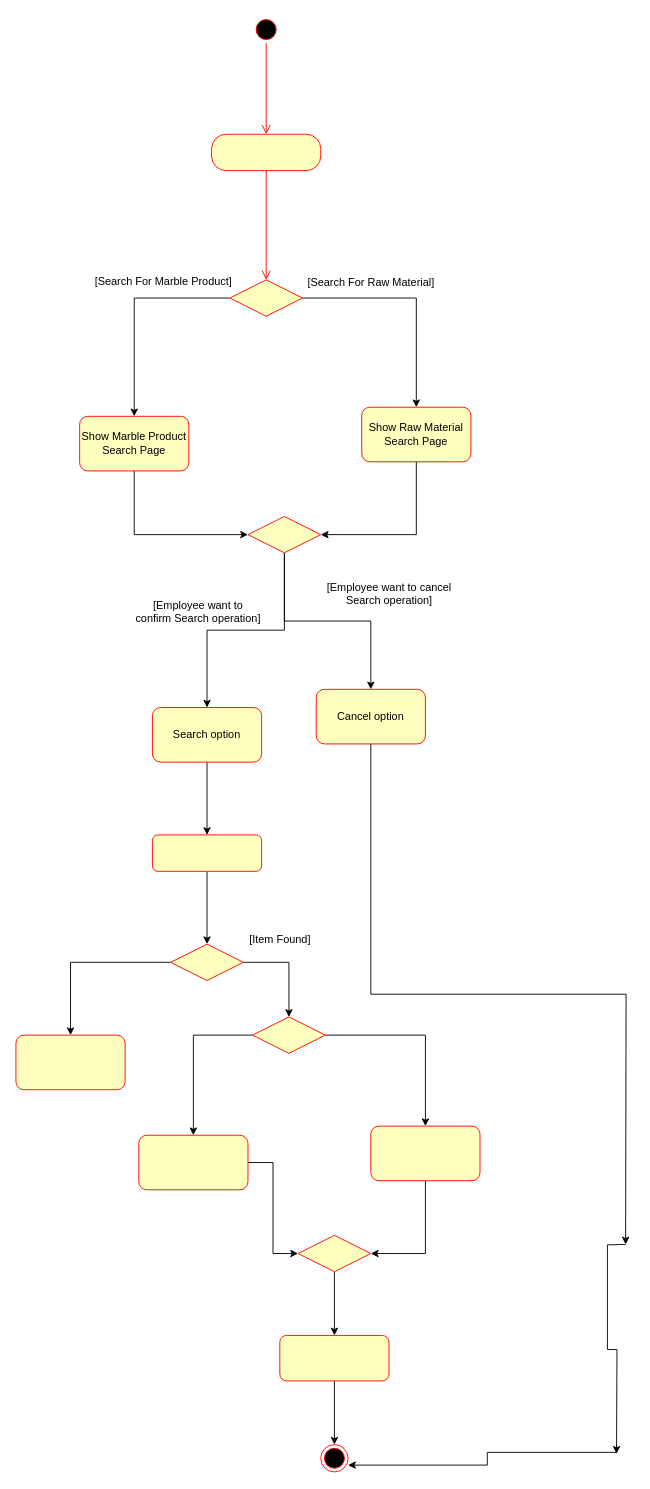
Image size: 650x1489. Some labels were removed from this diagram. The shapes that lost their labels are listed below. From the top down, each one's centre as x and y in pixels, then its label:
At (266,152): "Select Search Item Option".
At (207,852): "Find match Searched Item".
